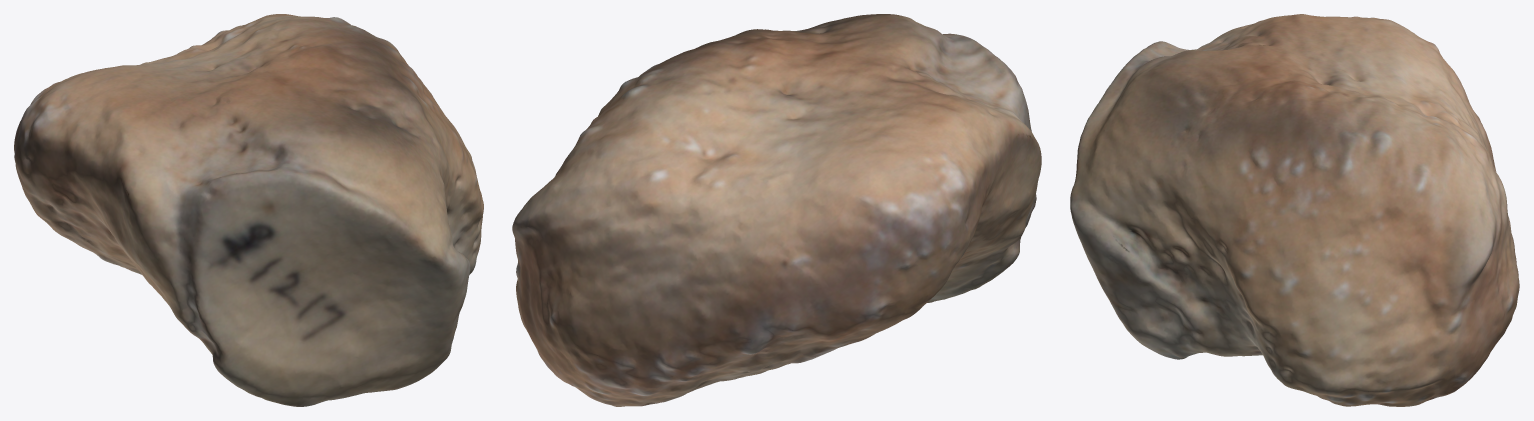
The picture shows the model from 3 angles, left to right: view 1: azimuth 30°, elevation 25°; view 2: azimuth 150°, elevation 25°; view 3: azimuth 270°, elevation 25°; orthographic projection. The views are drawn at different scales.
Parts seen in each view (by area): view 1: Node; view 2: Node; view 3: Node.
Part boxes in pixels (x1,y1,x2,y2): Node: (14,14,483,406); Node: (512,14,1041,406); Node: (1070,14,1519,406).
Size of the model in its own units: 29.41 by 20.21 by 29.44.
1 material, 1 textured.
